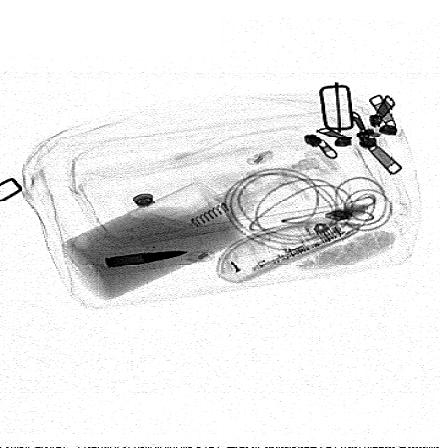Bullet: (104, 250, 191, 269)
